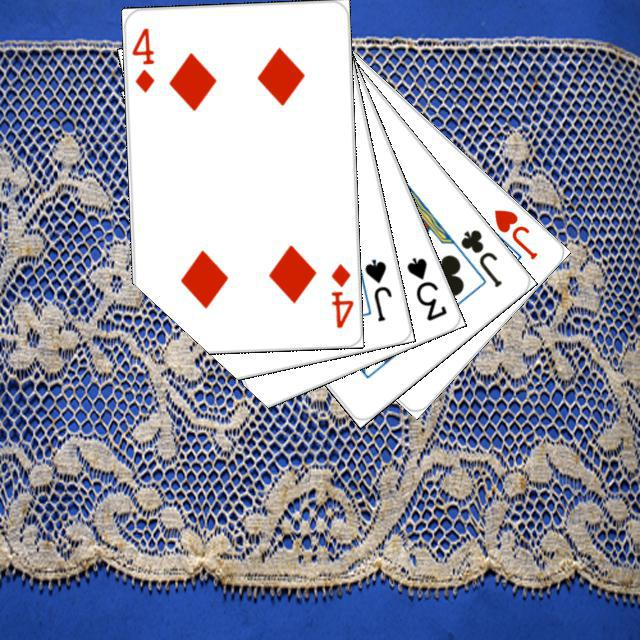3s: (401, 252, 449, 323)
4d: (127, 22, 156, 95), (326, 259, 355, 330)
Jc: (455, 224, 504, 289)
Jh: (489, 204, 540, 262)
Js: (359, 254, 393, 324)
